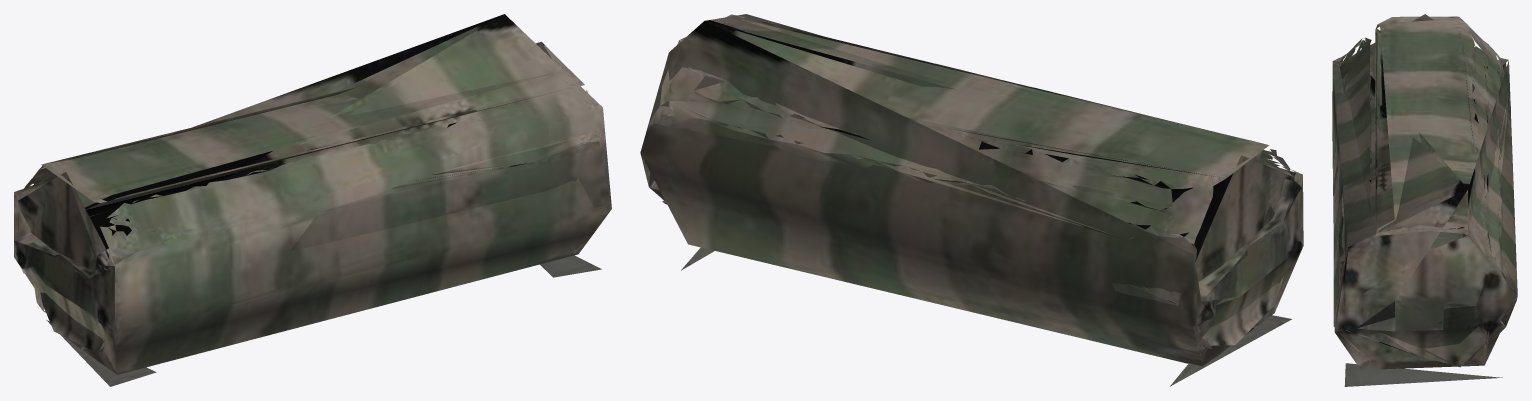
The model's file is barrier_1314743077_lod0.glb.
The picture shows the model from 3 angles, left to right: view 1: azimuth 30°, elevation 25°; view 2: azimuth 150°, elevation 25°; view 3: azimuth 270°, elevation 25°; orthographic projection. The views are drawn at different scales.
Size of the model in its own units: 3.01 by 1.2 by 1.06.
Materials: 1 (1 with a texture image).
